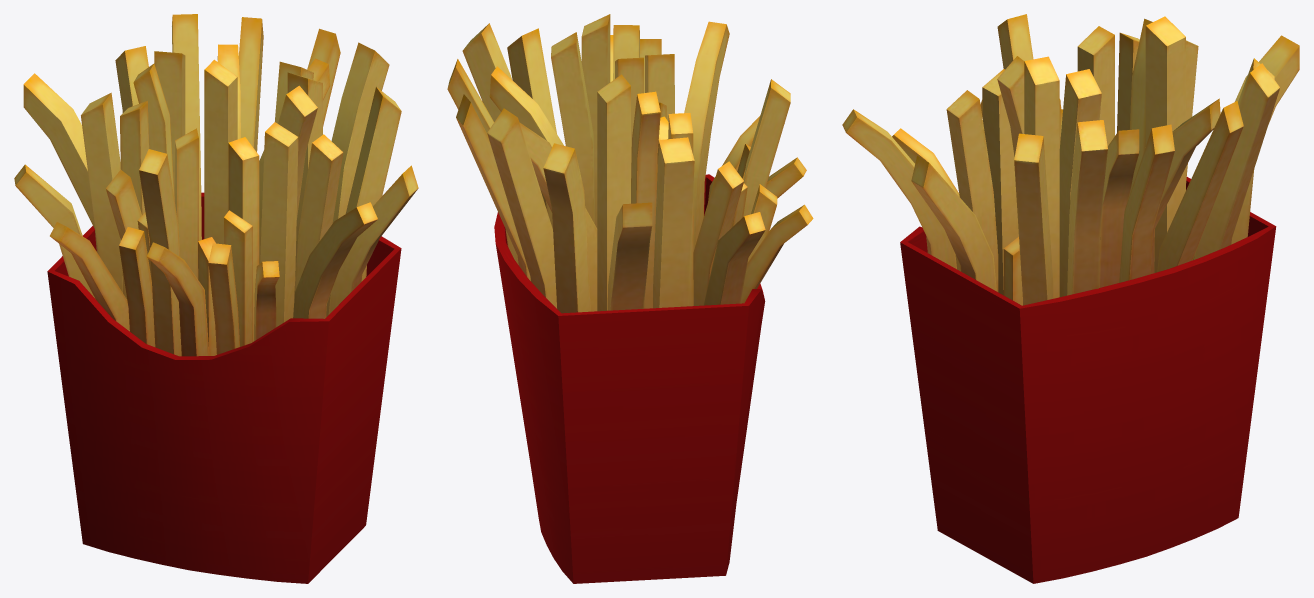
File: French Fries.fbx
The picture shows the model from 3 angles, left to right: view 1: azimuth 30°, elevation 25°; view 2: azimuth 150°, elevation 25°; view 3: azimuth 270°, elevation 25°; orthographic projection. The views are drawn at different scales.
Parts seen in each view (by area): view 1: FrenchFries_1; view 2: FrenchFries_1; view 3: FrenchFries_1.
Boxes of the visible parts, x1,y1,x2,y2 form: FrenchFries_1: (14,14,418,583); FrenchFries_1: (447,14,813,583); FrenchFries_1: (842,14,1299,583).
Size of the model in its own units: 33.18 by 44.12 by 37.26.
1 material, 1 textured.
